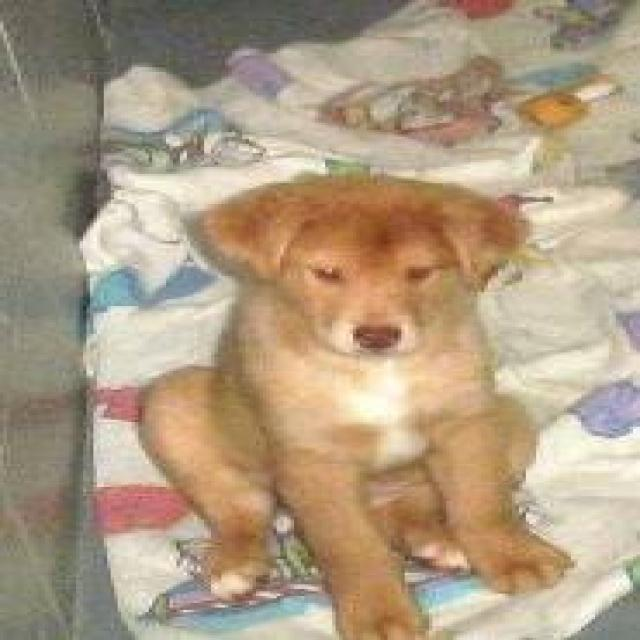dog: (135, 169, 574, 638)
